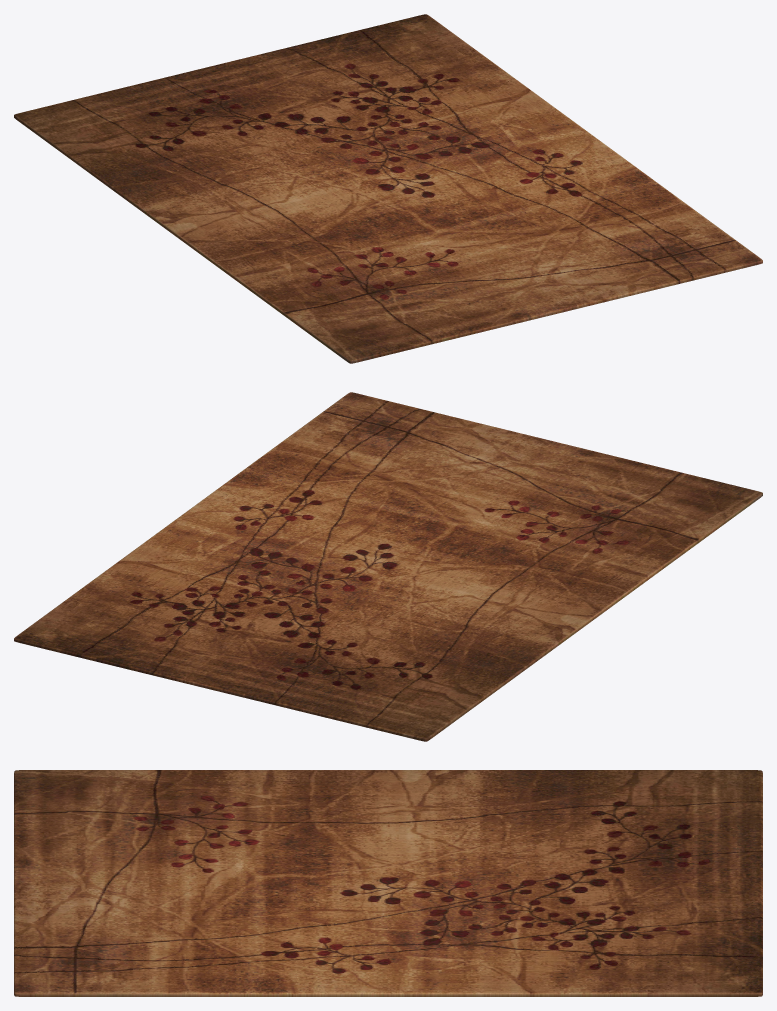
The model's file is ANDO4889_v6_LOD2.obj.
The picture shows the model from 3 angles, top to bottom: view 1: azimuth 30°, elevation 25°; view 2: azimuth 150°, elevation 25°; view 3: azimuth 270°, elevation 25°; orthographic projection. The views are drawn at different scales.
Visible parts, largest first — view 1: not_clear_obj_0_v6; view 2: not_clear_obj_0_v6; view 3: not_clear_obj_0_v6.
Part boxes in pixels (box(x1,y1,x2,y2)): not_clear_obj_0_v6: box(14, 14, 762, 363); not_clear_obj_0_v6: box(14, 392, 762, 741); not_clear_obj_0_v6: box(14, 770, 762, 996).
Size of what is drawn, in the model's own units: 160 by 1.27 by 226.
Materials: 1 (1 with a texture image).
